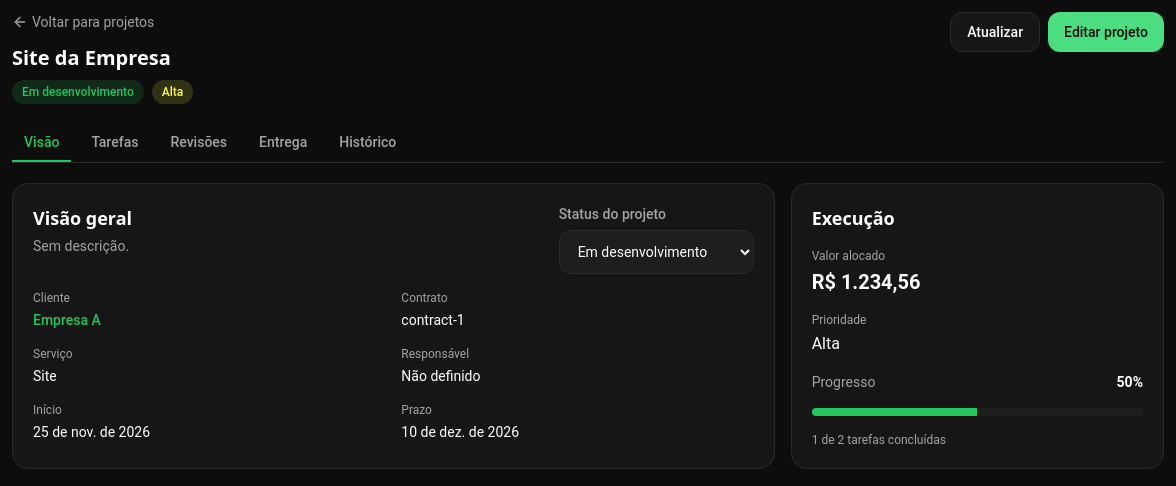
Test: ProjectDetailPage › mostra histórico do projeto sem copiar eventos
The width and height of the screenshot is (1176, 486).
Click the tab "Histórico" at (368, 143), box [327,124,408,162]
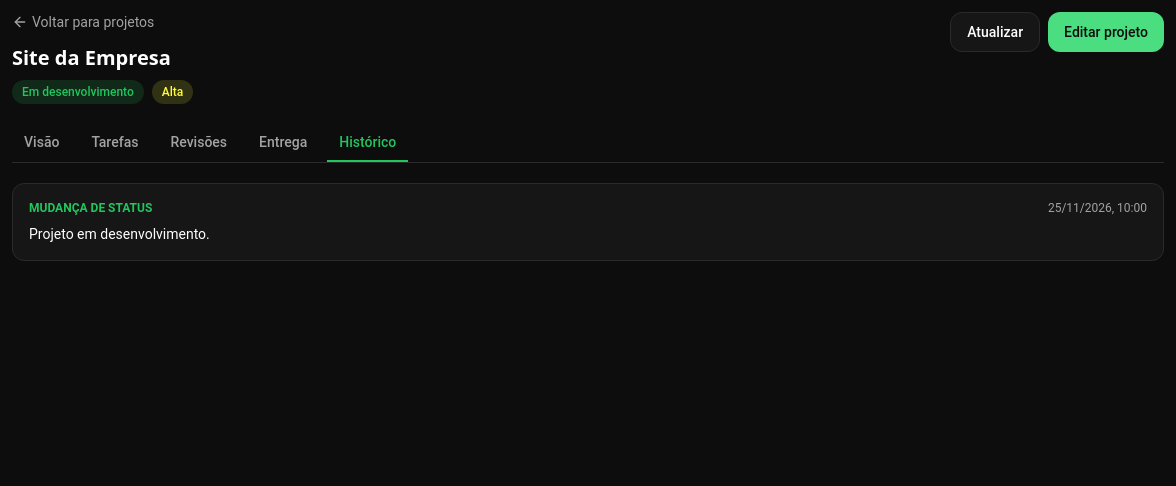
Now the text "Projeto em desenvolvimento." is shown, box [29,226,210,242]
